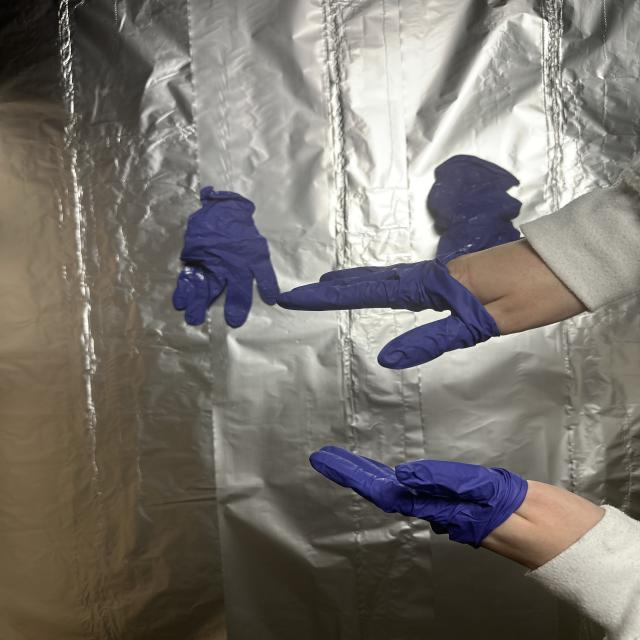glove_partial: (266, 230, 590, 372), (307, 441, 613, 576)
